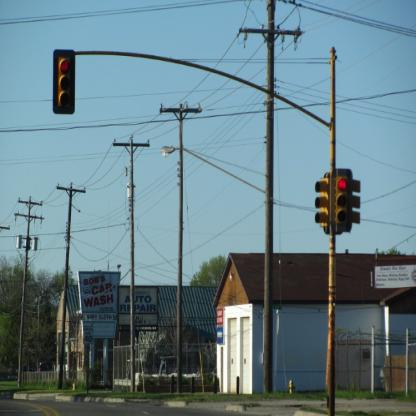red: (53, 48, 76, 113), (330, 170, 352, 231)
